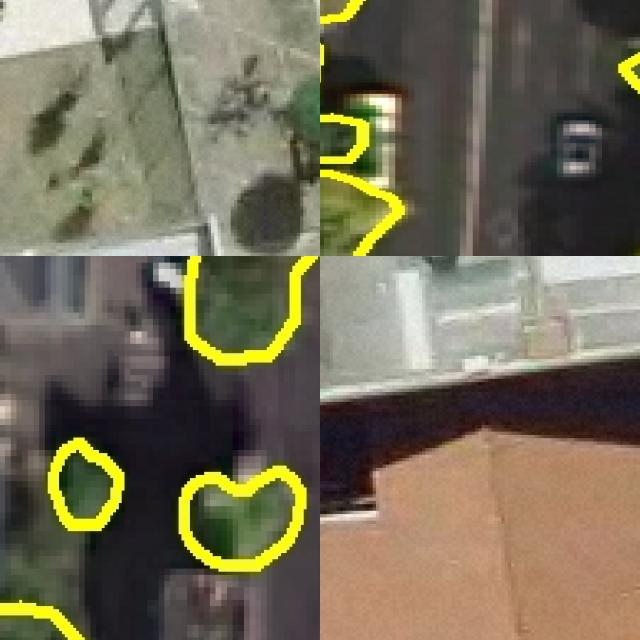trees: (188, 257, 314, 360), (182, 470, 302, 567), (52, 442, 120, 526), (1, 604, 82, 640), (288, 77, 321, 151), (622, 54, 640, 93)
